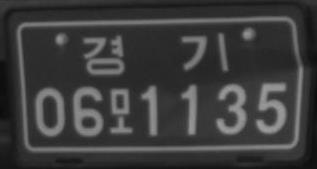0: (33, 85, 67, 138)
1: (137, 84, 166, 136), (176, 83, 205, 135)
3: (215, 82, 249, 136)
5: (254, 79, 288, 135)
6: (70, 84, 104, 138)
경기_D: (81, 31, 229, 77)
모: (108, 86, 134, 135)
